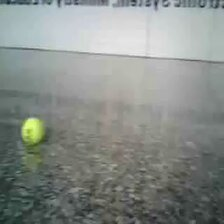tennis: (20, 117, 46, 145)
